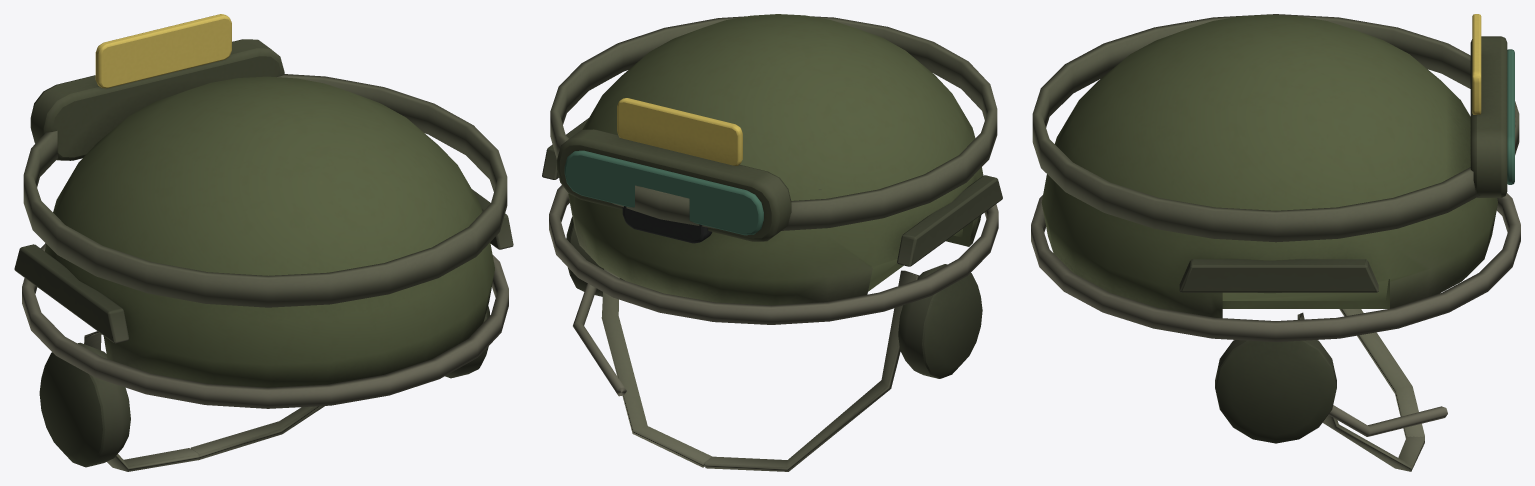
Rendered from Alpha_Head.glb.
3 renders of one model, left to right at view 1: azimuth 30°, elevation 25°; view 2: azimuth 150°, elevation 25°; view 3: azimuth 270°, elevation 25°, orthographic. The views are drawn at different scales.
Visible parts, largest first — view 1: Alpha_Head_body, Alpha_Head_v_goggles, Alpha_Head_v_headset; view 2: Alpha_Head_body, Alpha_Head_v_goggles, Alpha_Head_v_headset; view 3: Alpha_Head_body, Alpha_Head_v_goggles, Alpha_Head_v_headset.
Boxes of the visible parts, x1,y1,x2,y2 form: Alpha_Head_body: [14, 14, 513, 471]; Alpha_Head_v_goggles: [23, 39, 507, 307]; Alpha_Head_v_headset: [39, 306, 490, 467]; Alpha_Head_body: [542, 14, 1002, 471]; Alpha_Head_v_goggles: [550, 16, 997, 241]; Alpha_Head_v_headset: [566, 217, 982, 396]; Alpha_Head_body: [1031, 14, 1520, 471]; Alpha_Head_v_goggles: [1032, 14, 1519, 242]; Alpha_Head_v_headset: [1215, 340, 1447, 443].
Size of the model in its own units: 1.57 by 1.46 by 1.61.
Materials: 1 (1 with a texture image).
